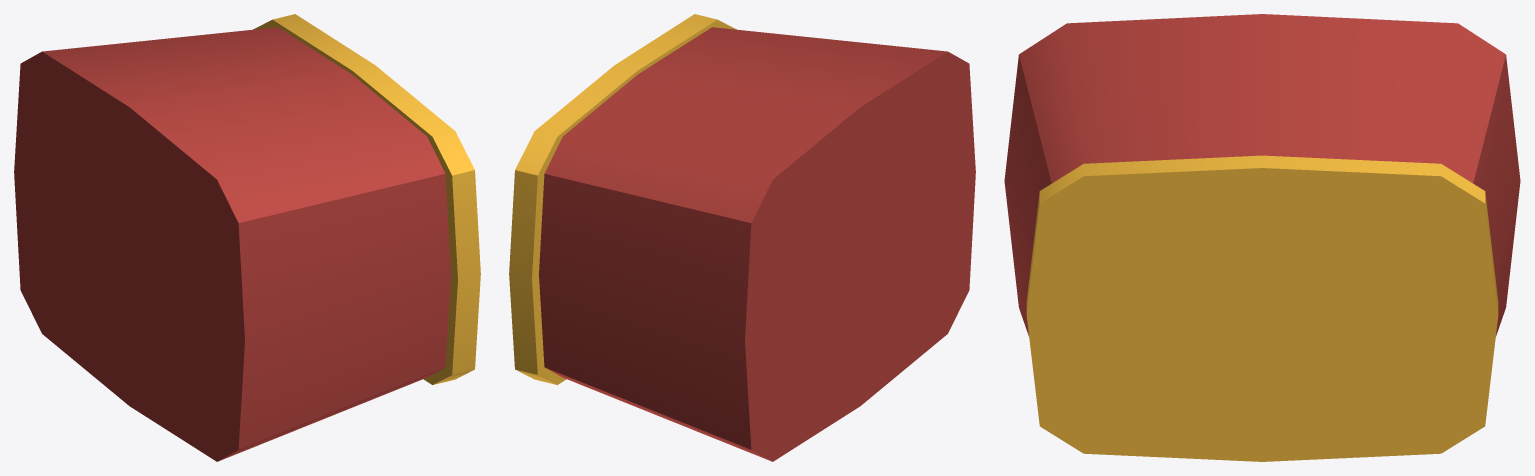
File: touring_lod1.glb
3 views of the same model, side by side, from view 1: azimuth 30°, elevation 25°; view 2: azimuth 150°, elevation 25°; view 3: azimuth 270°, elevation 25° (orthographic). The views are drawn at different scales.
Visible parts, largest first — view 1: touring_lod1; view 2: touring_lod1; view 3: touring_lod1.
Part boxes in pixels (x1,y1,x2,y2): touring_lod1: (14,14,480,461); touring_lod1: (509,14,975,461); touring_lod1: (1004,14,1520,461).
Size of the model in its own units: 0.043 by 0.05 by 0.07.
